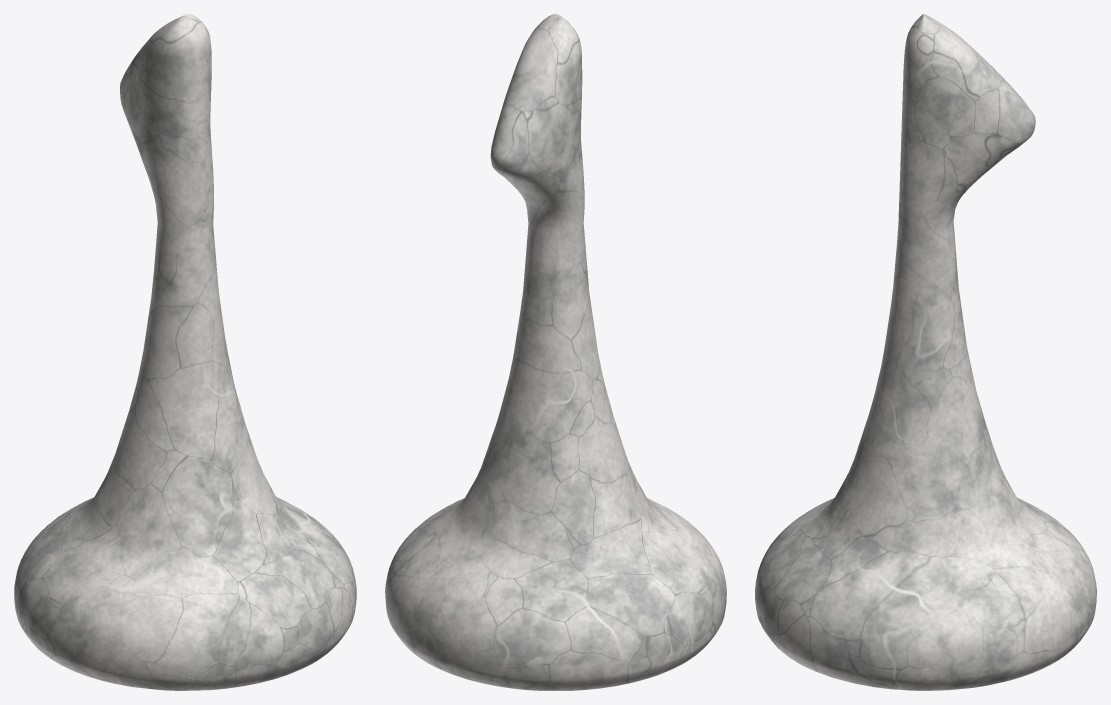
The model's file is knight-white.glb.
3 views of the same model, side by side, from view 1: azimuth 30°, elevation 25°; view 2: azimuth 150°, elevation 25°; view 3: azimuth 270°, elevation 25° (orthographic).
Parts seen in each view (by area): view 1: Serpentina_knight_white; view 2: Serpentina_knight_white; view 3: Serpentina_knight_white.
Boxes of the visible parts, x1,y1,x2,y2 form: Serpentina_knight_white: (14,14,356,690); Serpentina_knight_white: (385,14,726,690); Serpentina_knight_white: (755,14,1096,690).
Bounding box in the file's own units: 0.6901 × 1.36 × 0.6897.
Materials: 1 (1 with a texture image).
